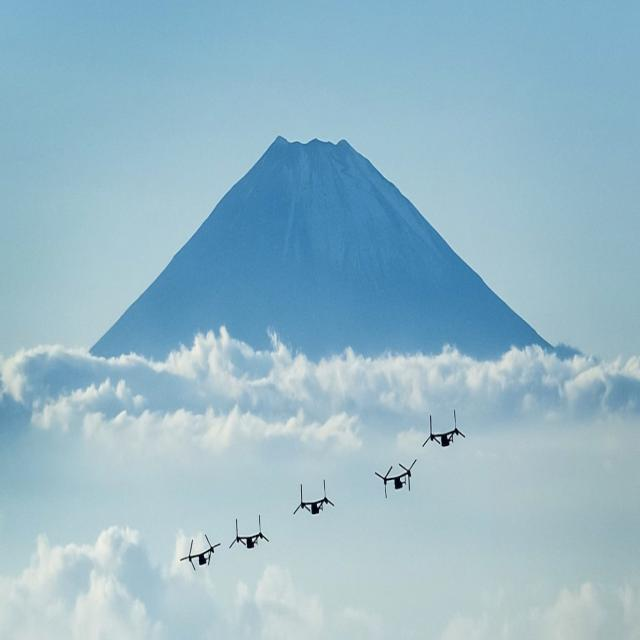MIL_Plane: (422, 409, 465, 448), (374, 459, 416, 498), (180, 533, 220, 571), (293, 478, 334, 515), (229, 514, 269, 549)
